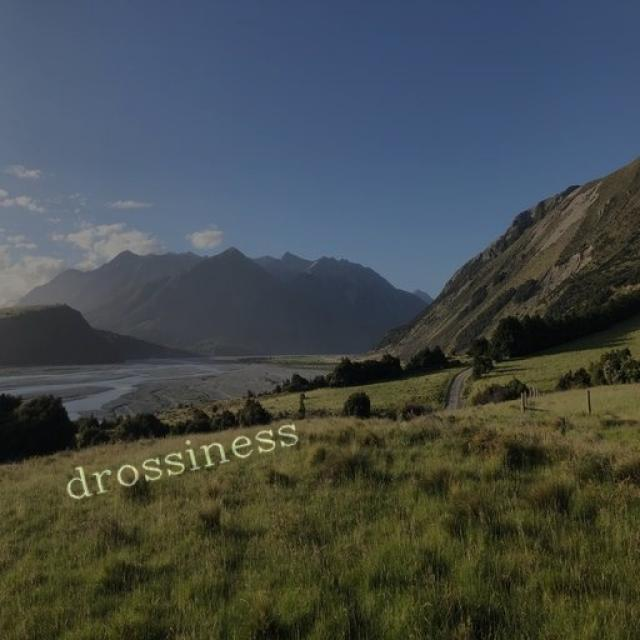watermark: (56, 410, 300, 508)
